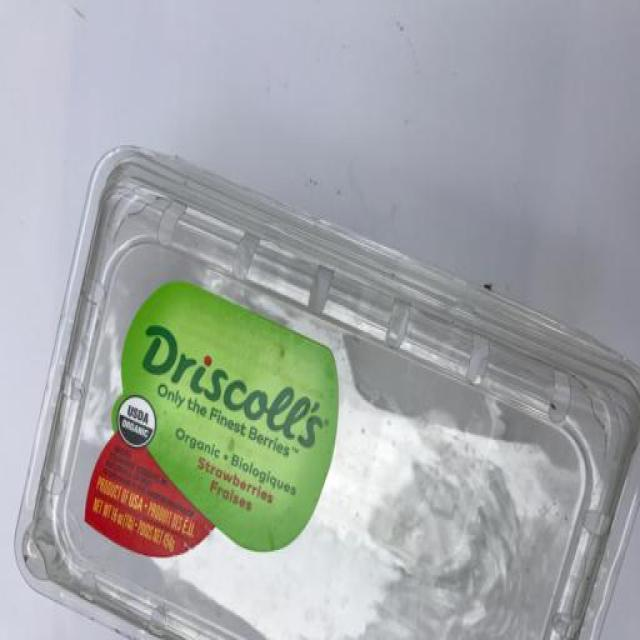plastic: (14, 142, 638, 638)
